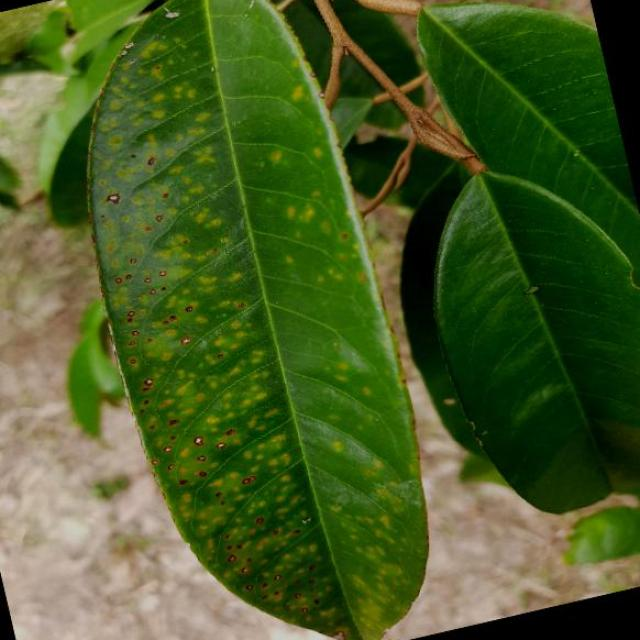Leaf Spot: (25, 0, 471, 640)
